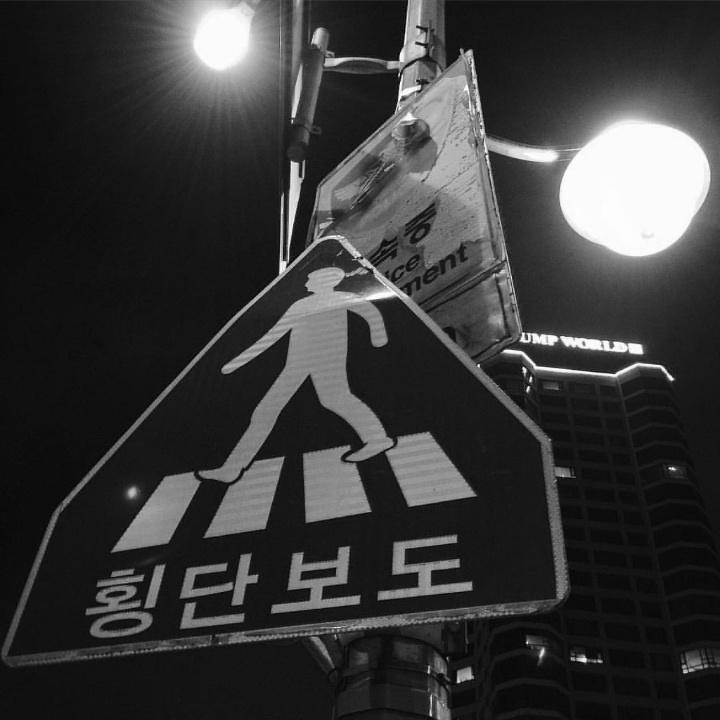cross: (101, 242, 505, 546)
